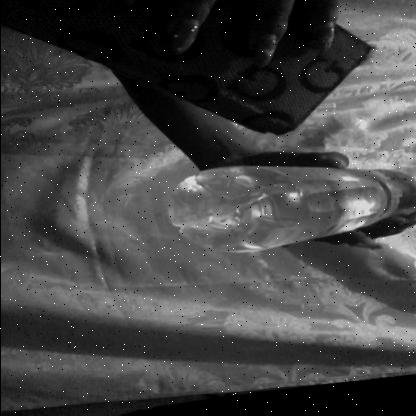Plastic Bottle: (166, 164, 414, 258)
